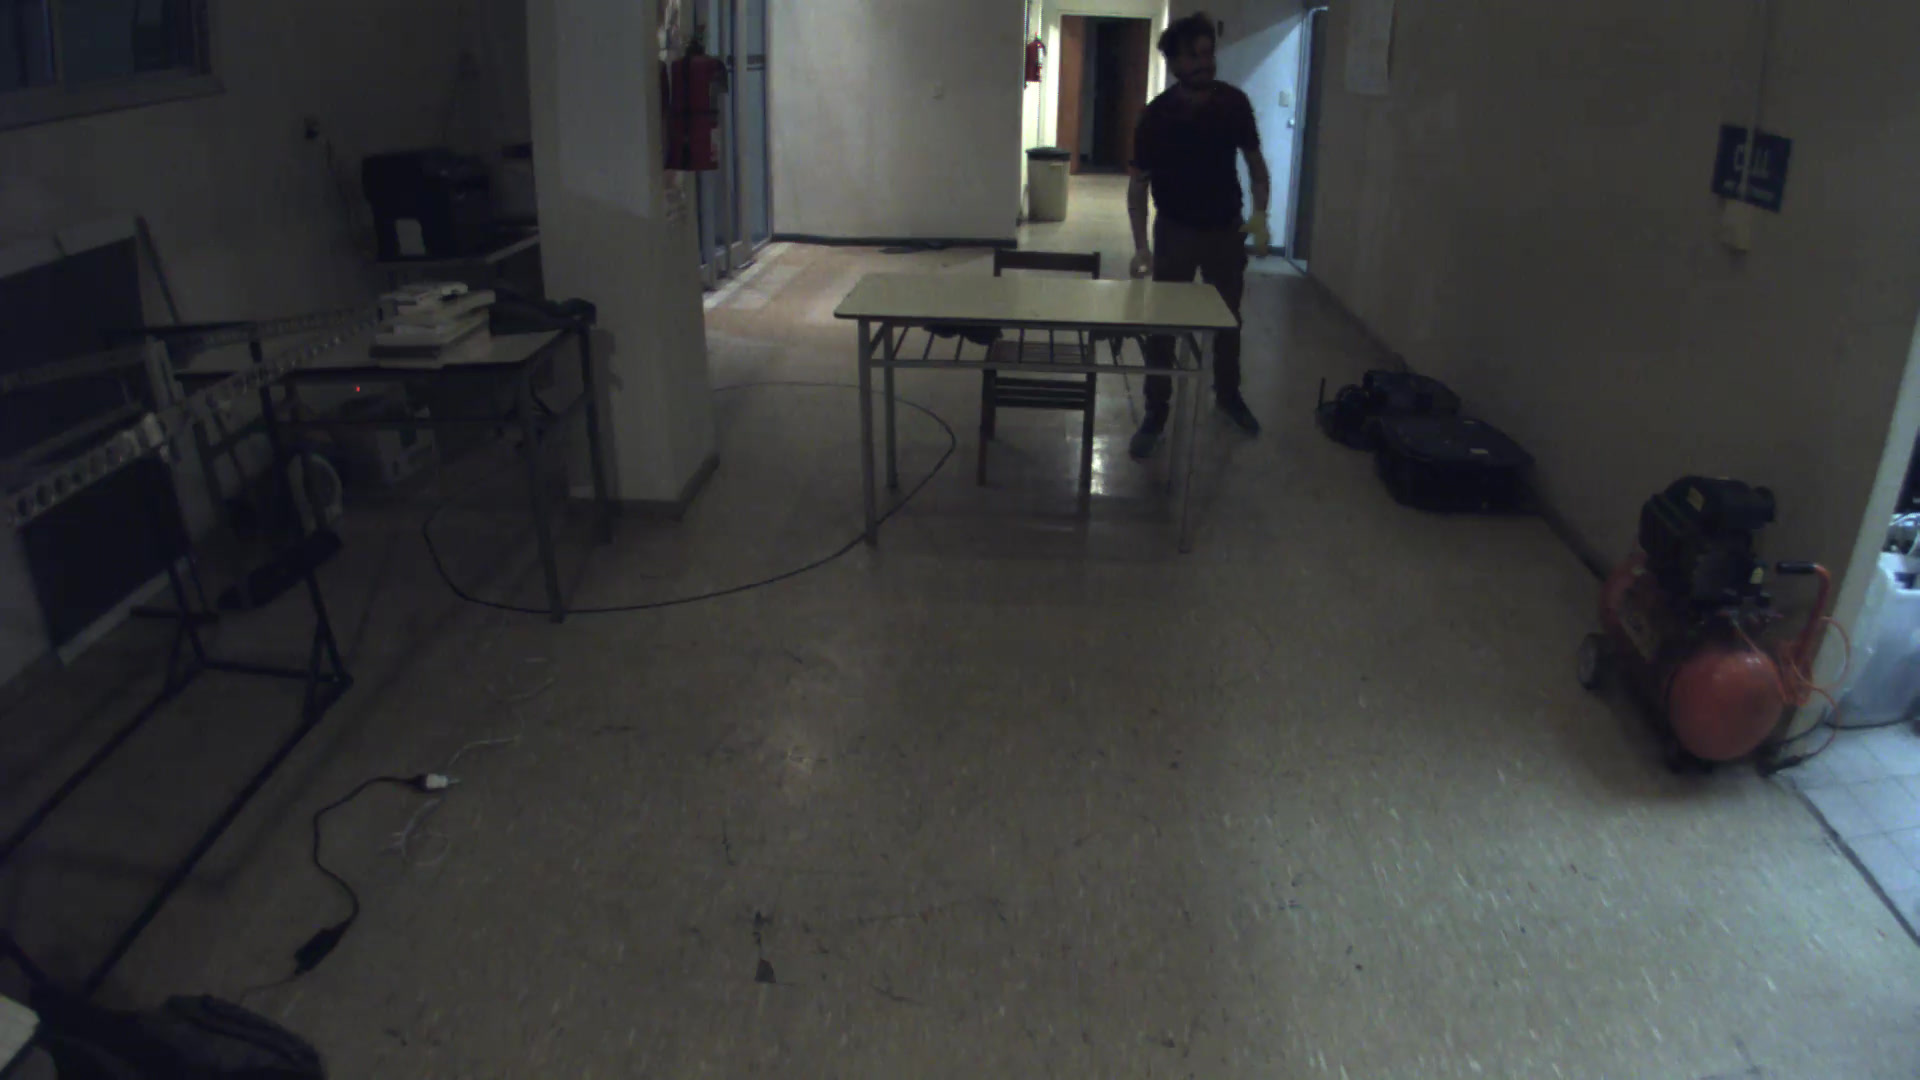hand: (1236, 208, 1284, 258), (1118, 247, 1158, 278)
